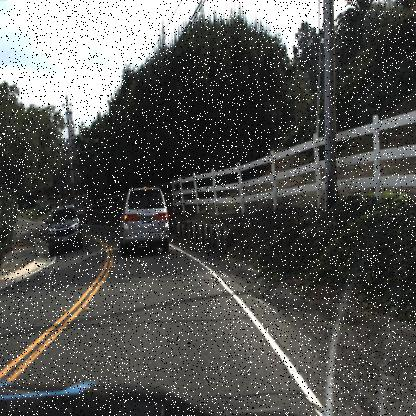car: (121, 186, 171, 256), (43, 199, 84, 256)
